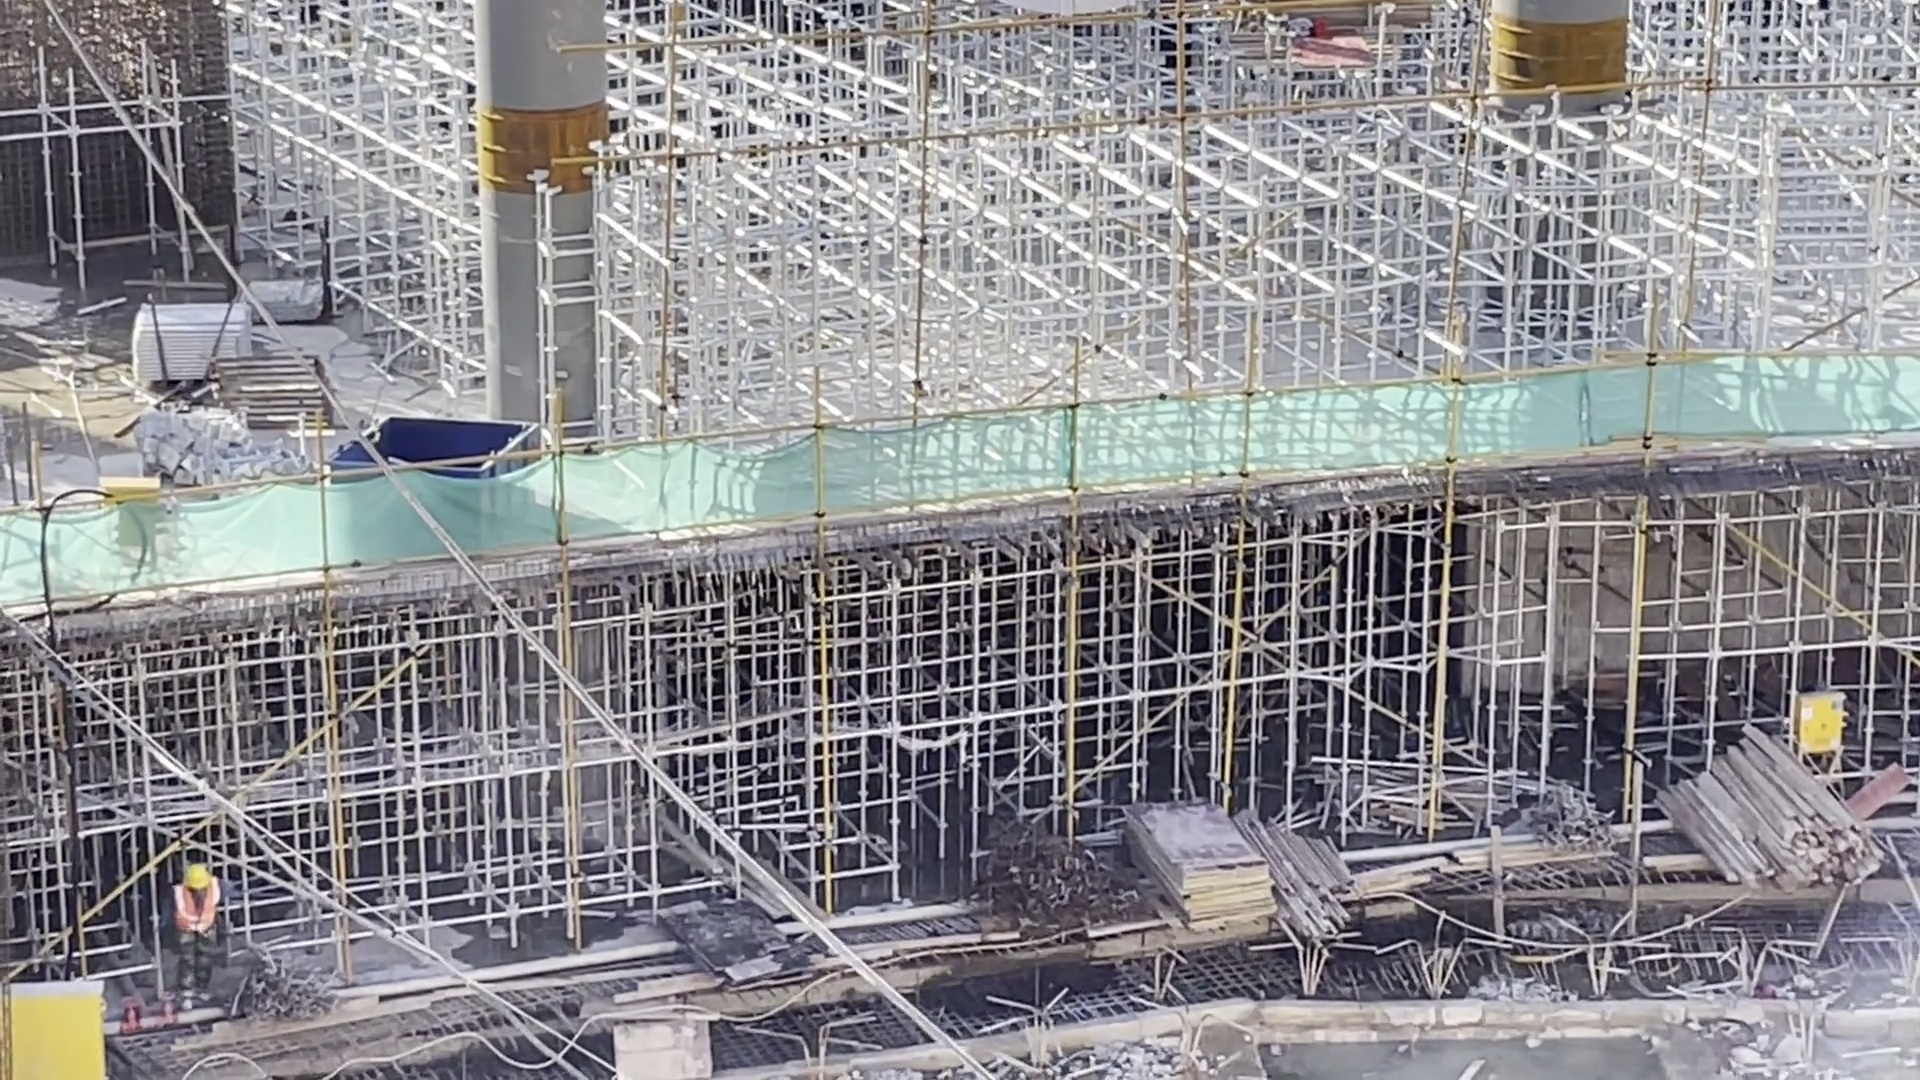board: (1125, 794, 1281, 931)
ebox: (1793, 690, 1847, 752), (96, 472, 167, 500)
helmet: (180, 862, 213, 891)
hopper: (377, 412, 544, 454)
person: (164, 862, 228, 1006)
scaffold: (132, 304, 252, 356)
vest: (173, 885, 219, 930)
wood: (1656, 720, 1891, 893), (1282, 831, 1365, 946)
